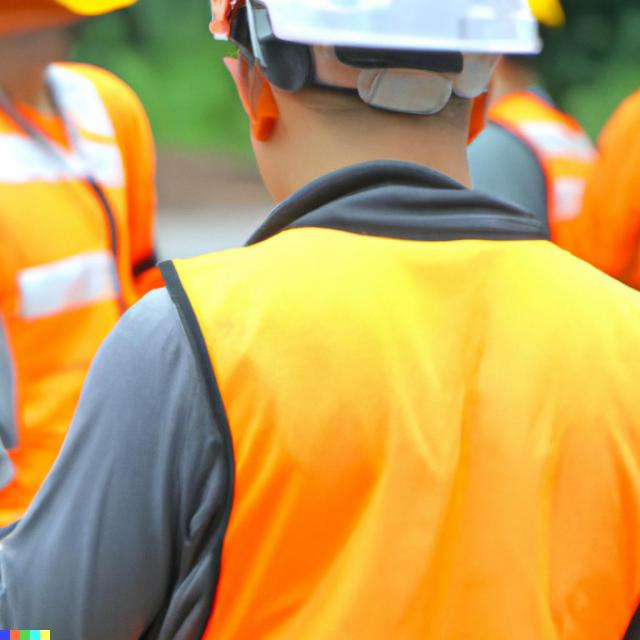Reflective-Jacket: (150, 189, 640, 640), (2, 42, 156, 549)
Safety-Helmet: (233, 0, 552, 56)
